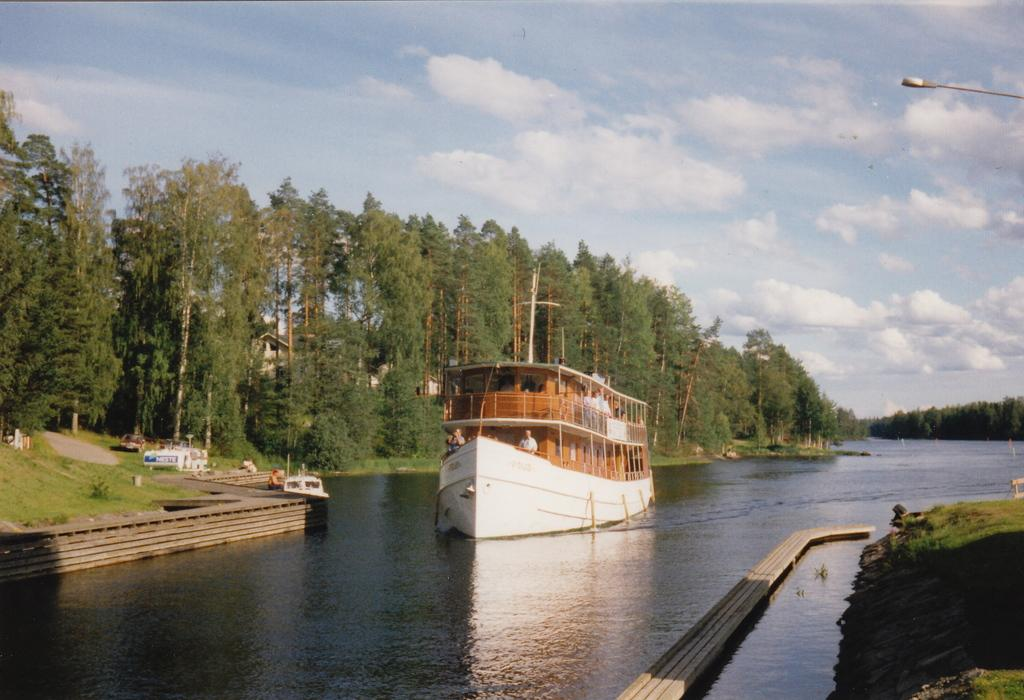PassengerShip: (421, 351, 661, 543)
